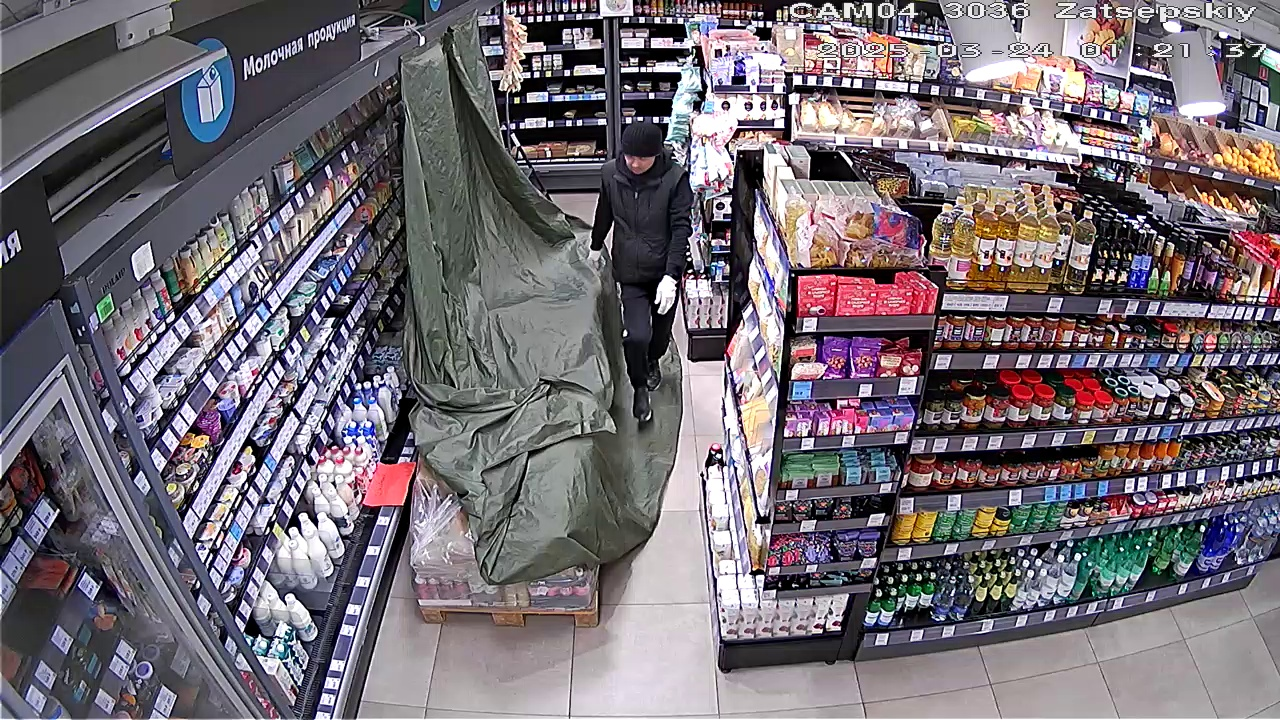Human: (586, 115, 672, 421)
dome: (400, 31, 680, 579)
